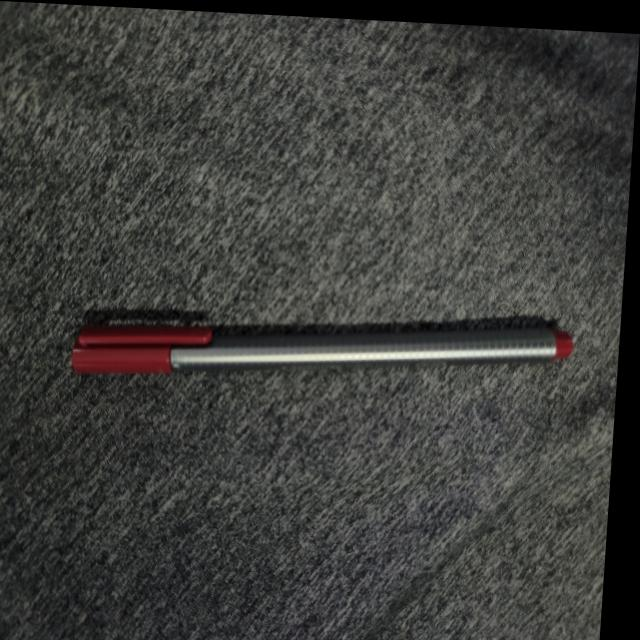caneta: (59, 290, 591, 401)
